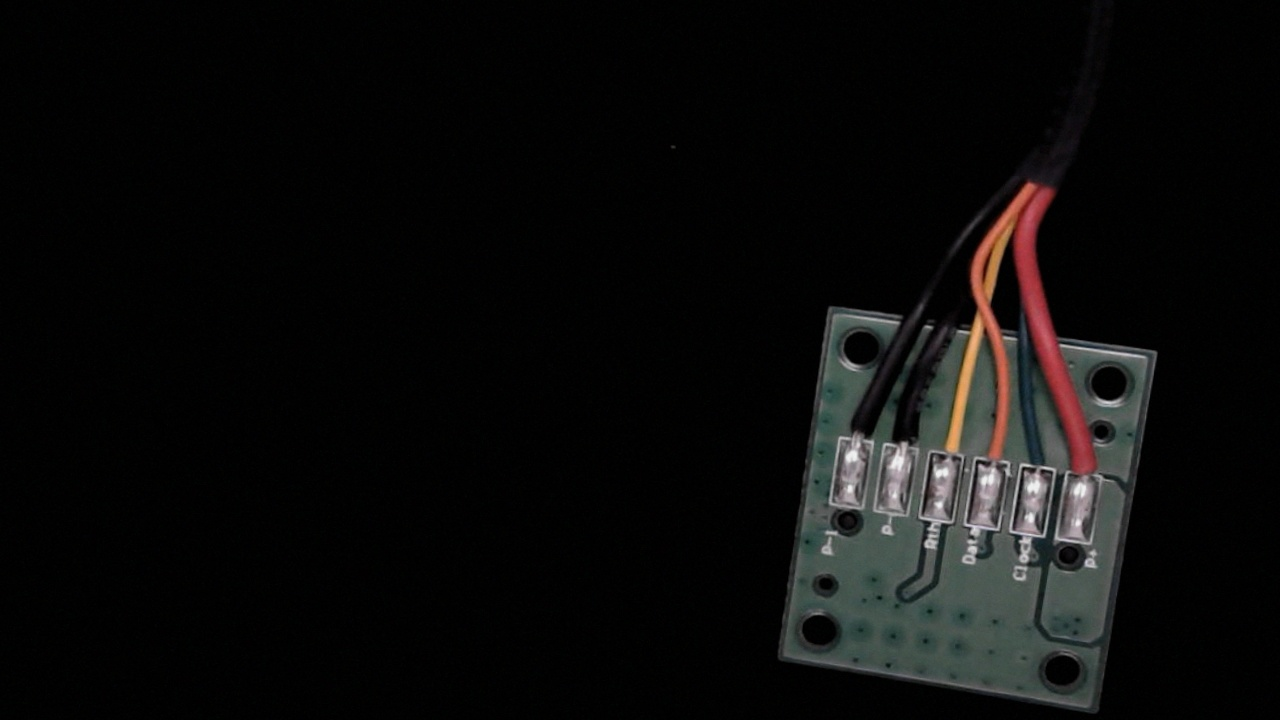Black: (879, 384, 932, 470)
Black1: (832, 385, 882, 464)
Green: (1014, 423, 1065, 496)
Orange: (970, 403, 1021, 487)
Red: (1059, 417, 1112, 500)
Yellow: (921, 390, 974, 477)
